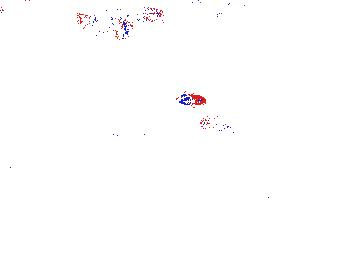red belly glassfish: (199, 112, 238, 134), (175, 94, 208, 107)
redtail glassfish: (76, 4, 163, 37), (97, 16, 134, 48), (192, 1, 257, 16)
